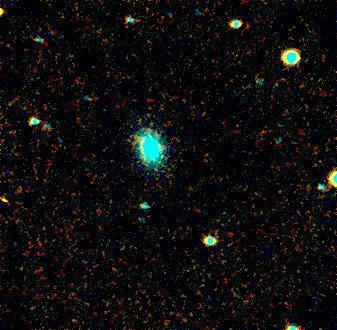star: (0, 186, 22, 216)
